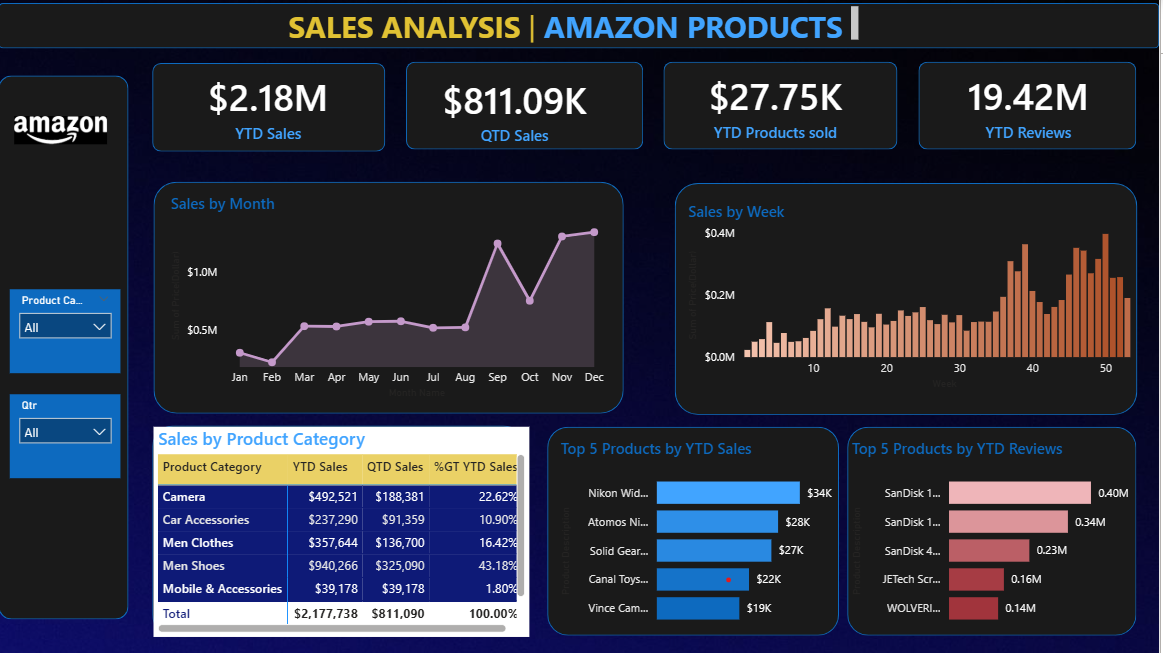

What the dashboard file says about the page in this screenshot:
{"tool":"powerbi","page":{"name":"Page 1","canvas":[1280,720],"ordinal":0},"visuals":[{"type":"shape","box":[30,15.6,1250,48.9],"z":0},{"type":"textbox","box":[336.2,15.1,624.4,49.4],"z":1000},{"type":"shape","box":[30.2,94.7,140,585.9],"z":2000},{"type":"shape","box":[194.5,80.9,250.9,95.5],"z":3000},{"type":"card","fields":{"Values":["Amazon_Data.YTD Sales"]},"box":[195.5,80,250,96.4],"z":4000},{"type":"shape","box":[468.2,80,255.5,94.5],"z":5000},{"type":"card","fields":{"Values":["Amazon_Data.QTD Sales"]},"box":[468.6,82.9,234.3,94.3],"z":6000},{"type":"shape","box":[746.4,80,251.8,94.5],"z":7000},{"type":"shape","box":[1020.9,80,234.5,94.5],"z":8000},{"type":"card","fields":{"Values":["Amazon_Data.YTD Products sold"]},"box":[745.7,80,241.4,94.3],"z":9000},{"type":"card","fields":{"Values":["Amazon_Data.YTD Reviews"]},"box":[1021.4,80,234.3,94.3],"z":10000},{"type":"shape","box":[196.2,208.6,506.3,249.7],"z":11000},{"type":"areaChart","title":"Sales by Month","fields":{"Category":["Date Table.Month Name"],"Y":["Sum(Amazon_Data.Price(Dollar))"]},"box":[209.9,220.9,480.3,226.4],"z":12000},{"type":"shape","box":[757.5,209.9,498.1,249.7],"z":13000},{"type":"columnChart","title":"Sales by Week","fields":{"Category":["Date Table.Week"],"Y":["Sum(Amazon_Data.Price(Dollar))"]},"box":[767.4,228.9,506.2,208.7],"z":14000},{"type":"shape","box":[194.9,470.7,400.7,226.4],"z":15000},{"type":"pivotTable","title":"Sales by Product Category","fields":{"Rows":["Amazon_Data.Product Category"],"Values":["Amazon_Data.YTD Sales1","Amazon_Data.QTD Sales","Amazon_Data.YTD Sales"]},"box":[196.2,472,404.8,226.4],"z":16000},{"type":"shape","box":[944.1,472,311.5,225],"z":17000},{"type":"shape","box":[620.2,472,314.2,225],"z":18000},{"type":"clusteredBarChart","title":" Top 5 Products by YTD Sales ","fields":{"Category":["Amazon_Data.Product Description"],"Y":["Amazon_Data.YTD Sales"]},"box":[630,484.6,313.7,214.1],"z":19000},{"type":"clusteredBarChart","title":" Top 5 Products by YTD Reviews ","fields":{"Category":["Amazon_Data.Product Description"],"Y":["Amazon_Data.YTD Reviews"]},"box":[944.1,484.4,314.2,214.1],"z":20000},{"type":"slicer","fields":{"Values":["Amazon_Data.Product Category"]},"box":[41.2,323.8,119.4,90.6],"z":21000},{"type":"slicer","fields":{"Values":["Date Table.Qtr"]},"box":[41.2,437.7,119.4,90.6],"z":22000},{"type":"image","box":[41.2,116.6,109.8,71.4],"z":23000}]}

Visuals, with their boxes in screenshot pixels (x1, y1, x2, y2), scaled from the page's 1280x720 canvas onto the 1163x653 screenshot:
shape: {"x1": 27, "y1": 14, "x2": 1162, "y2": 58}
textbox: {"x1": 305, "y1": 14, "x2": 873, "y2": 58}
shape: {"x1": 27, "y1": 86, "x2": 155, "y2": 617}
shape: {"x1": 177, "y1": 73, "x2": 405, "y2": 160}
card - Amazon_Data.YTD Sales: {"x1": 178, "y1": 73, "x2": 405, "y2": 160}
shape: {"x1": 425, "y1": 73, "x2": 658, "y2": 158}
card - Amazon_Data.QTD Sales: {"x1": 426, "y1": 75, "x2": 639, "y2": 161}
shape: {"x1": 678, "y1": 73, "x2": 907, "y2": 158}
shape: {"x1": 928, "y1": 73, "x2": 1141, "y2": 158}
card - Amazon_Data.YTD Products sold: {"x1": 678, "y1": 73, "x2": 897, "y2": 158}
card - Amazon_Data.YTD Reviews: {"x1": 928, "y1": 73, "x2": 1141, "y2": 158}
shape: {"x1": 178, "y1": 189, "x2": 638, "y2": 416}
"Sales by Month" areaChart: {"x1": 191, "y1": 200, "x2": 627, "y2": 406}
shape: {"x1": 688, "y1": 190, "x2": 1141, "y2": 417}
"Sales by Week" columnChart: {"x1": 697, "y1": 208, "x2": 1157, "y2": 397}
shape: {"x1": 177, "y1": 427, "x2": 541, "y2": 632}
"Sales by Product Category" pivotTable: {"x1": 178, "y1": 428, "x2": 546, "y2": 633}
shape: {"x1": 858, "y1": 428, "x2": 1141, "y2": 632}
shape: {"x1": 564, "y1": 428, "x2": 849, "y2": 632}
" Top 5 Products by YTD Sales " clusteredBarChart: {"x1": 572, "y1": 440, "x2": 857, "y2": 634}
" Top 5 Products by YTD Reviews " clusteredBarChart: {"x1": 858, "y1": 439, "x2": 1143, "y2": 634}
slicer - Amazon_Data.Product Category: {"x1": 37, "y1": 294, "x2": 146, "y2": 376}
slicer - Date Table.Qtr: {"x1": 37, "y1": 397, "x2": 146, "y2": 479}
image: {"x1": 37, "y1": 106, "x2": 137, "y2": 171}
